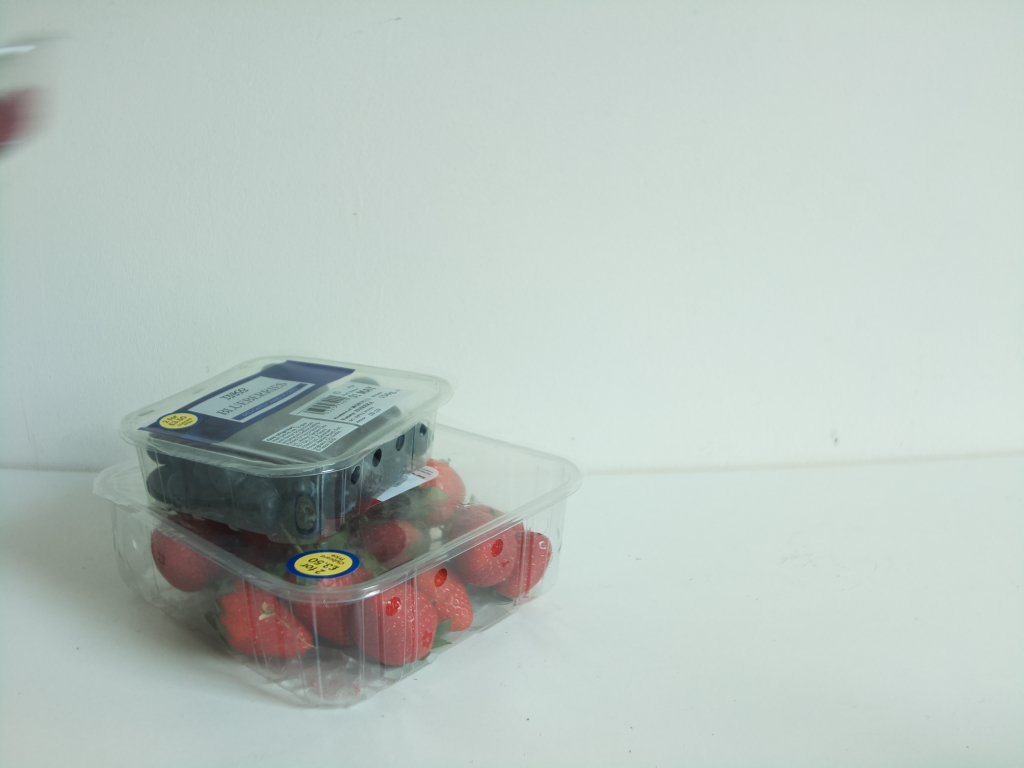soft-fruit: (82, 426, 582, 708), (115, 345, 459, 547)
